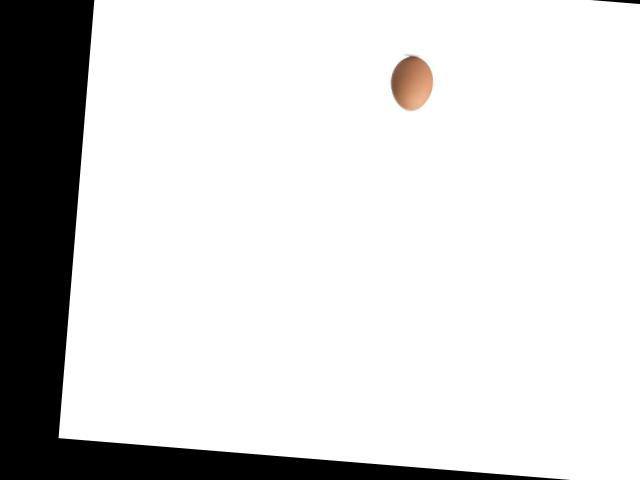egg: (388, 54, 434, 111)
